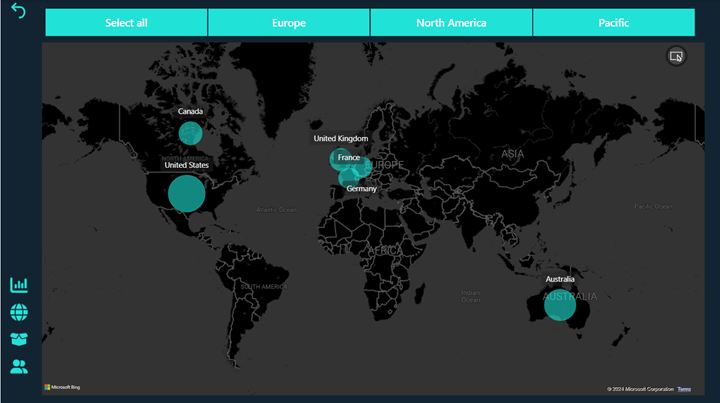

The dashboard page shown, as its layout file describes it:
{"tool":"powerbi","page":{"name":"Map","canvas":[1280,720],"ordinal":2},"visuals":[{"type":"actionButton","box":[10.5,488.9,44.5,39.1],"z":0,"group":"g1"},{"type":"map","fields":{"Category":["Territory Lookup.Country"],"Size":["Measure Table.Total Orders"]},"box":[68.1,71.5,1190.1,649.1],"z":0},{"type":"slicer","fields":{"Values":["Territory Lookup.Continent"]},"box":[54.1,8.7,1204,62.8],"z":1000},{"type":"actionButton","box":[10.5,585,44.5,39.1],"z":1000,"group":"g1"},{"type":"shape","title":"Left Nav Background","box":[0,1.7,64.6,708.5],"z":2000},{"type":"actionButton","box":[10.5,633,44.5,39.1],"z":2000,"group":"g1"},{"type":"actionButton","box":[12.2,0,43.6,38.4],"z":3000},{"type":"actionButton","box":[10.5,536.9,44.5,39.1],"z":3000,"group":"g1"},{"type":"group","id":"g1","title":"Navigation Buttons","box":[10.5,488.9,44.5,183.3],"z":4000}]}

Visuals, with their boxes in screenshot pixels (x1, y1, x2, y2), scaled from the page's 1280x720 canvas onto the 720x403 screenshot:
actionButton: (left=6, top=274, right=31, bottom=296)
map - Territory Lookup.Country x Measure Table.Total Orders: (left=38, top=40, right=708, bottom=402)
slicer - Territory Lookup.Continent: (left=30, top=5, right=708, bottom=40)
actionButton: (left=6, top=327, right=31, bottom=349)
"Left Nav Background" shape: (left=0, top=1, right=36, bottom=398)
actionButton: (left=6, top=354, right=31, bottom=376)
actionButton: (left=7, top=0, right=31, bottom=21)
actionButton: (left=6, top=301, right=31, bottom=322)
"Navigation Buttons" group: (left=6, top=274, right=31, bottom=376)
